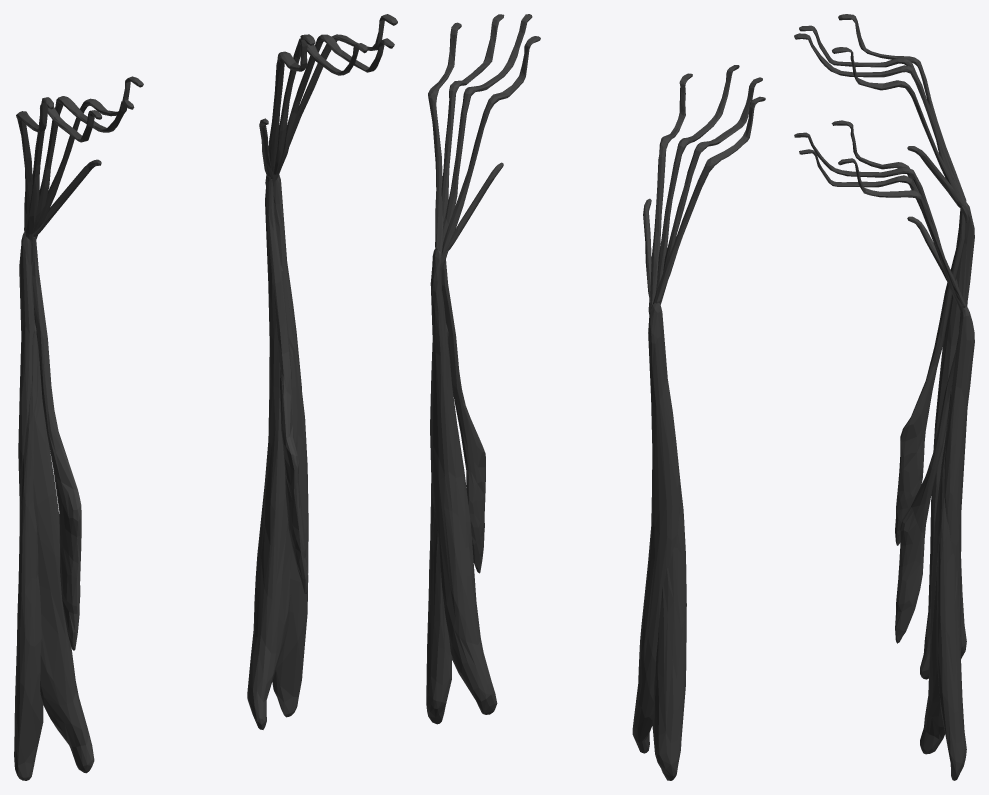
Rendered from m_flexor_digitorum_profundus.glb.
The picture shows the model from 3 angles, left to right: view 1: azimuth 30°, elevation 25°; view 2: azimuth 150°, elevation 25°; view 3: azimuth 270°, elevation 25°; orthographic projection. The views are drawn at different scales.
Visible parts, largest first — view 1: m_flexor_digitorum_profundus; view 2: m_flexor_digitorum_profundus; view 3: m_flexor_digitorum_profundus.
Boxes of the visible parts, x1,y1,x2,y2 form: m_flexor_digitorum_profundus: [14, 14, 397, 780]; m_flexor_digitorum_profundus: [426, 14, 765, 780]; m_flexor_digitorum_profundus: [794, 14, 974, 780].
Size of the model in its own units: 0.00455 by 0.00921 by 0.00235.
Materials: 1 (1 with a texture image).
